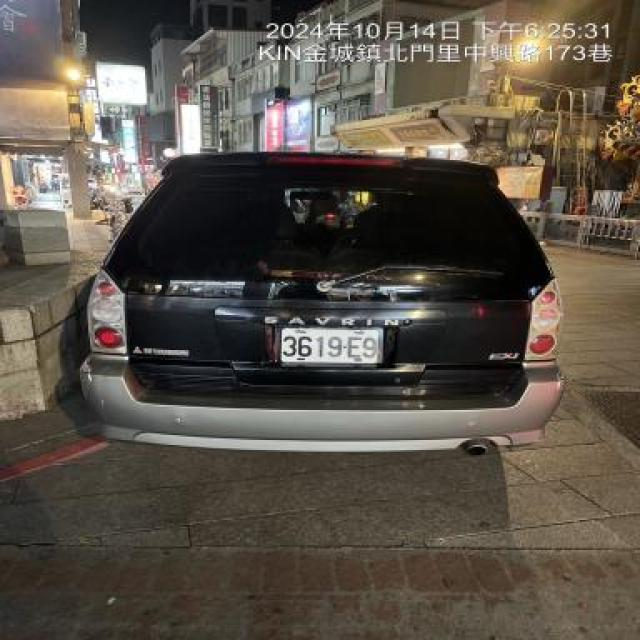illegalparking: (136, 115, 591, 467)
